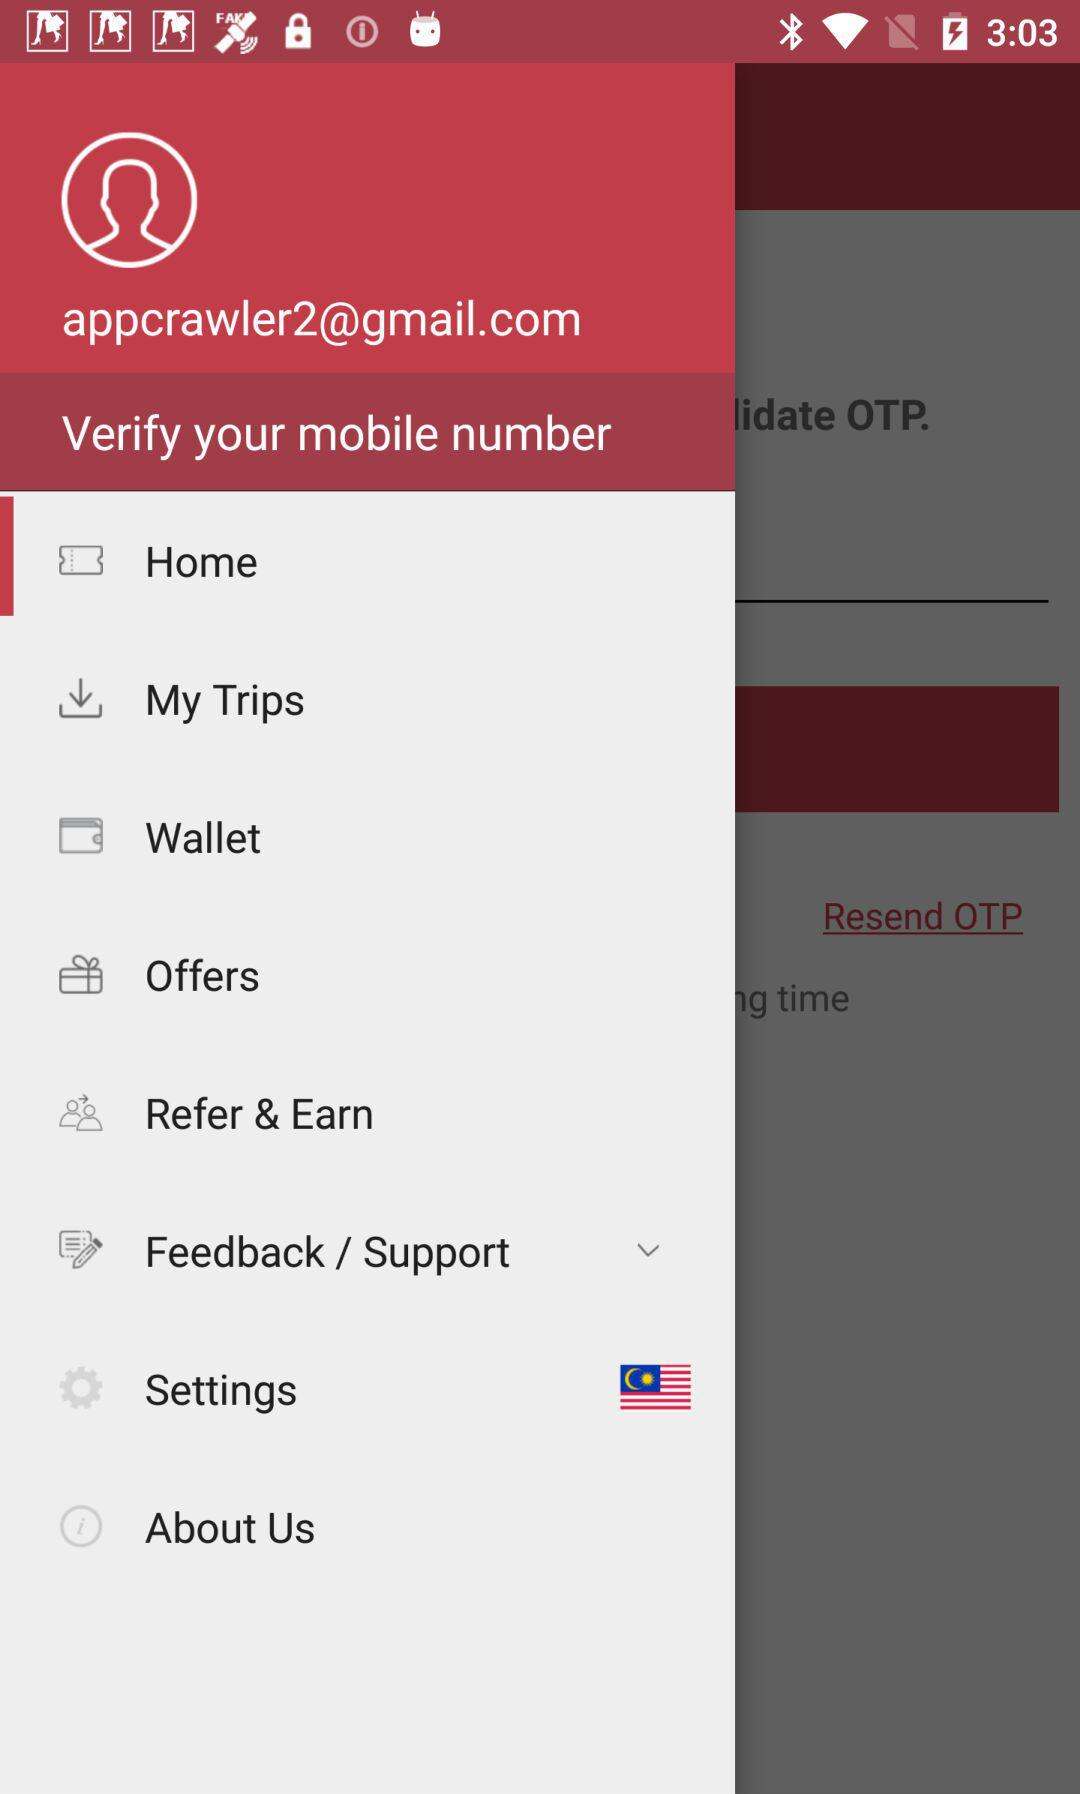Drawer: (1, 64, 735, 1794)
Icon: (60, 132, 199, 270), (59, 1366, 105, 1410), (59, 677, 105, 720), (60, 1504, 105, 1548), (59, 953, 105, 996), (59, 1229, 105, 1270), (59, 1093, 105, 1133), (59, 818, 106, 855), (59, 545, 105, 577), (637, 1240, 661, 1258)
Image: (620, 1363, 693, 1413)
Text: (61, 293, 580, 349), (61, 413, 612, 463), (147, 1233, 511, 1278), (147, 1096, 374, 1132), (147, 683, 306, 727), (146, 1372, 299, 1415), (145, 1510, 316, 1545), (145, 820, 263, 855), (147, 957, 260, 993), (147, 546, 259, 579)
UpperTaskBar: (1, 1, 1080, 64)
